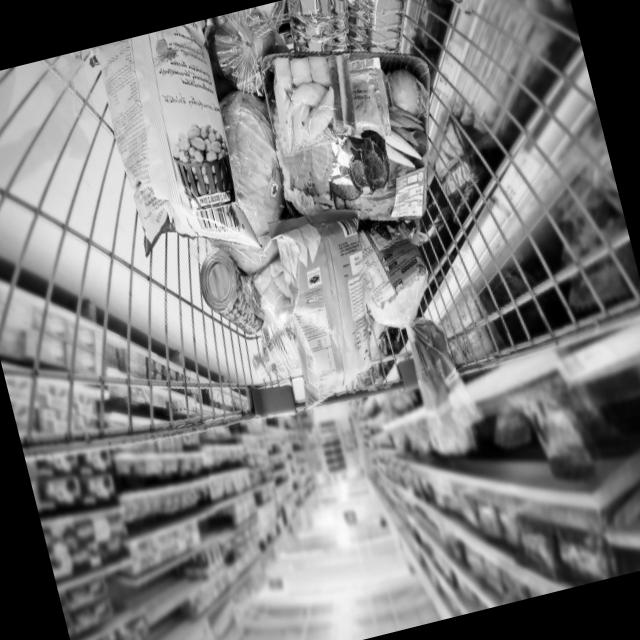banh mi: (350, 215, 472, 438)
bap cai: (206, 78, 300, 244)
dau: (243, 310, 320, 388)
tao: (197, 2, 300, 104)
